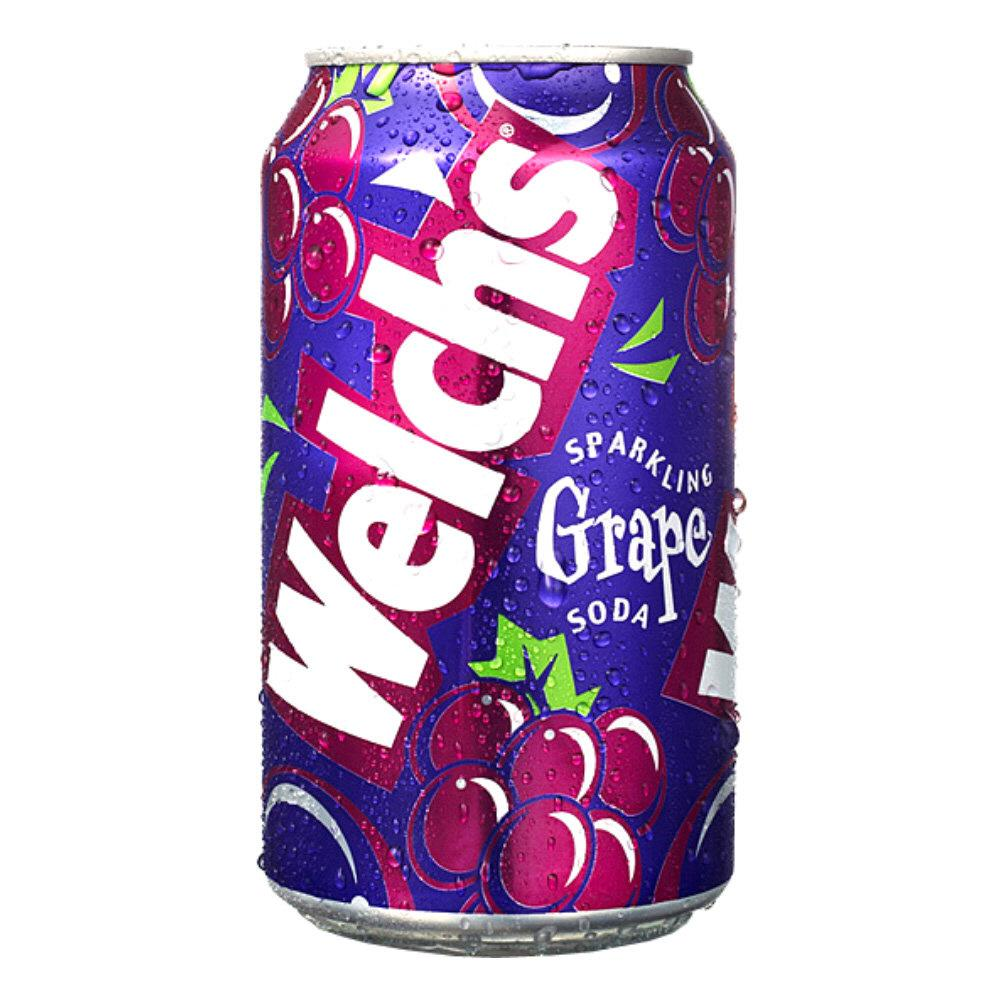welchs_grape: (231, 50, 765, 962)
